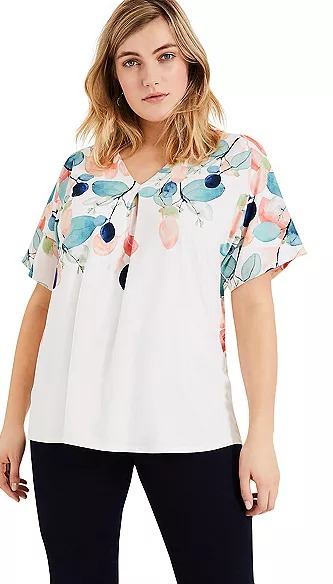C_short blouse: (21, 128, 308, 465)
